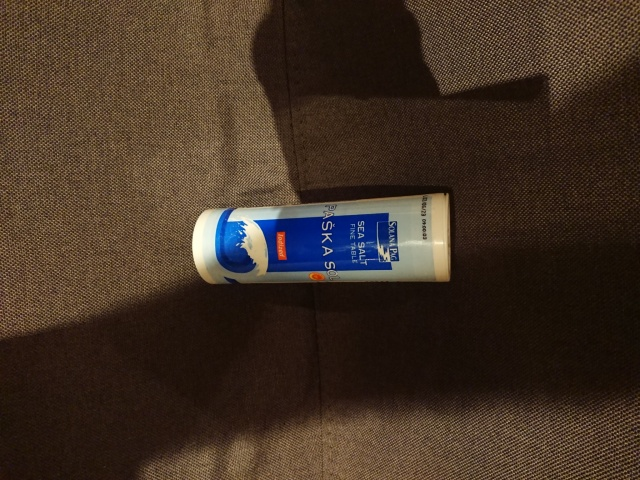Solana Pag Fine Sea Salt 250g: (187, 189, 453, 287)
